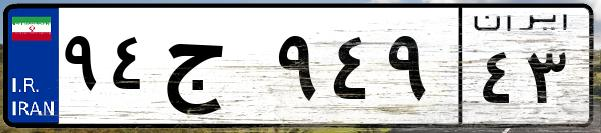3: (525, 38, 570, 115)
4: (330, 28, 385, 110), (475, 38, 525, 113), (110, 28, 158, 98)
9: (270, 28, 330, 110), (385, 28, 445, 110), (57, 26, 110, 100)
ج: (158, 20, 270, 120)
